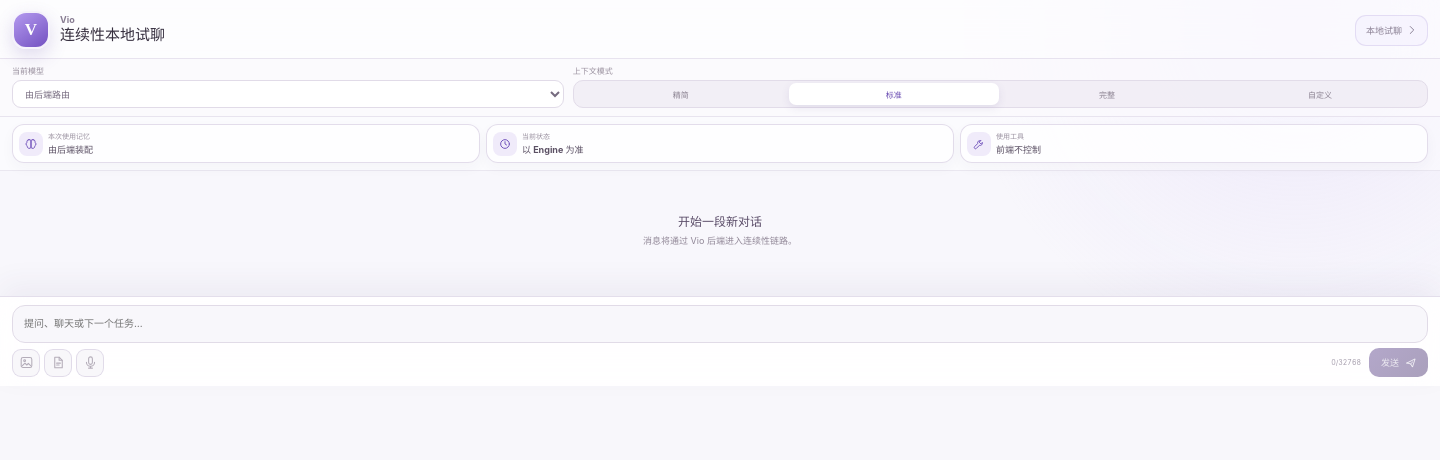
ConversationPage V5 flow › sends once and renders exactly one real user message and one Engine subject message
This screenshot has width=1440, height=460.
Expected: the text "开始一段新对话" is shown, [678,214,762,229]
Type "  真实用户消息  " into the text box named "输入消息" at (720, 324), box [12,305,1428,343]
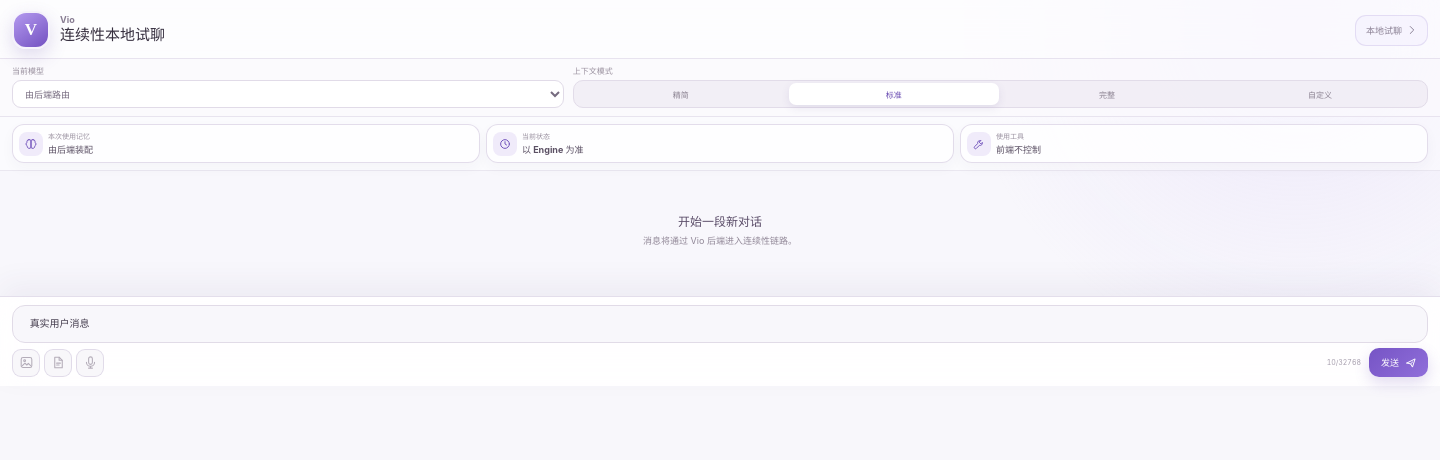
Click the button with aria-label "发送消息" at (1398, 363), box [1369,348,1428,377]
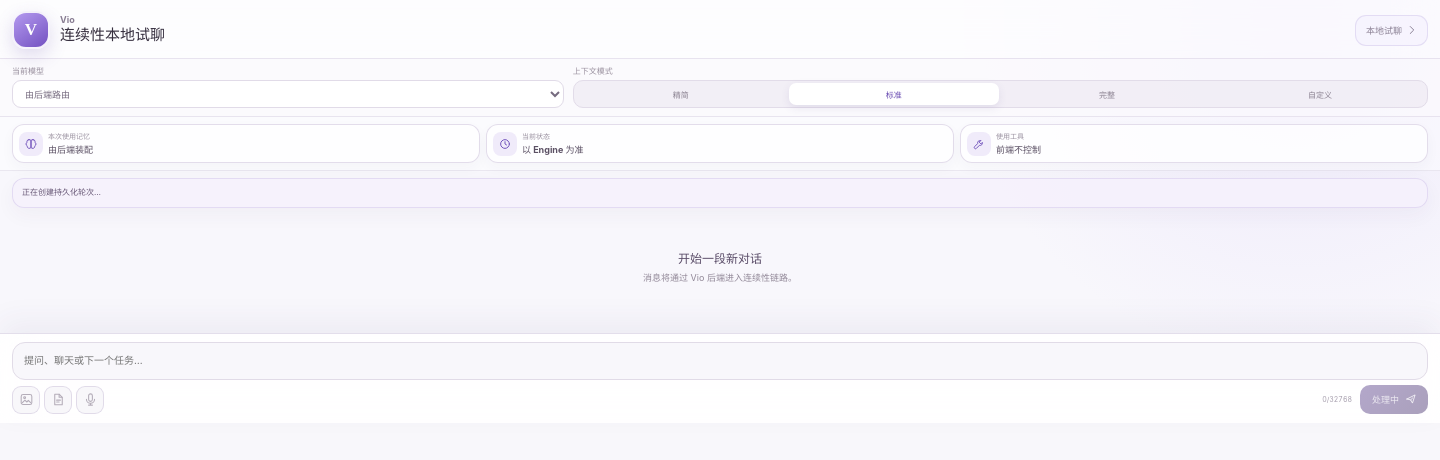
Click the button with aria-label "发送消息" at (1394, 400), box [1360,385,1428,414]
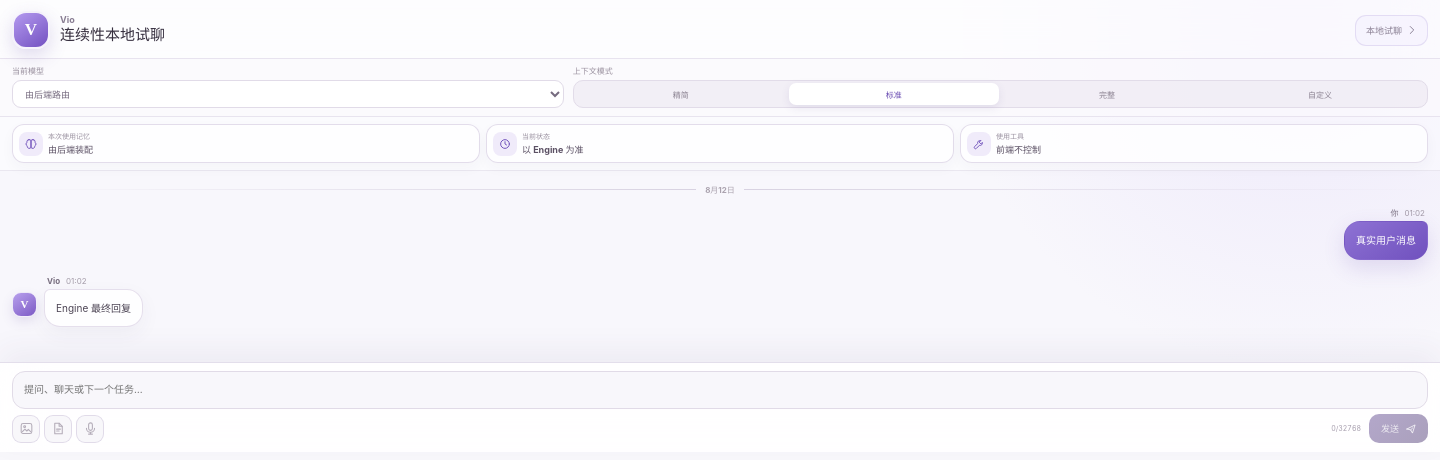
Now the text "Engine 最终回复" is shown, box [44,288,143,327]
Now the text "真实用户消息" is shown once, box [1344,221,1428,260]
